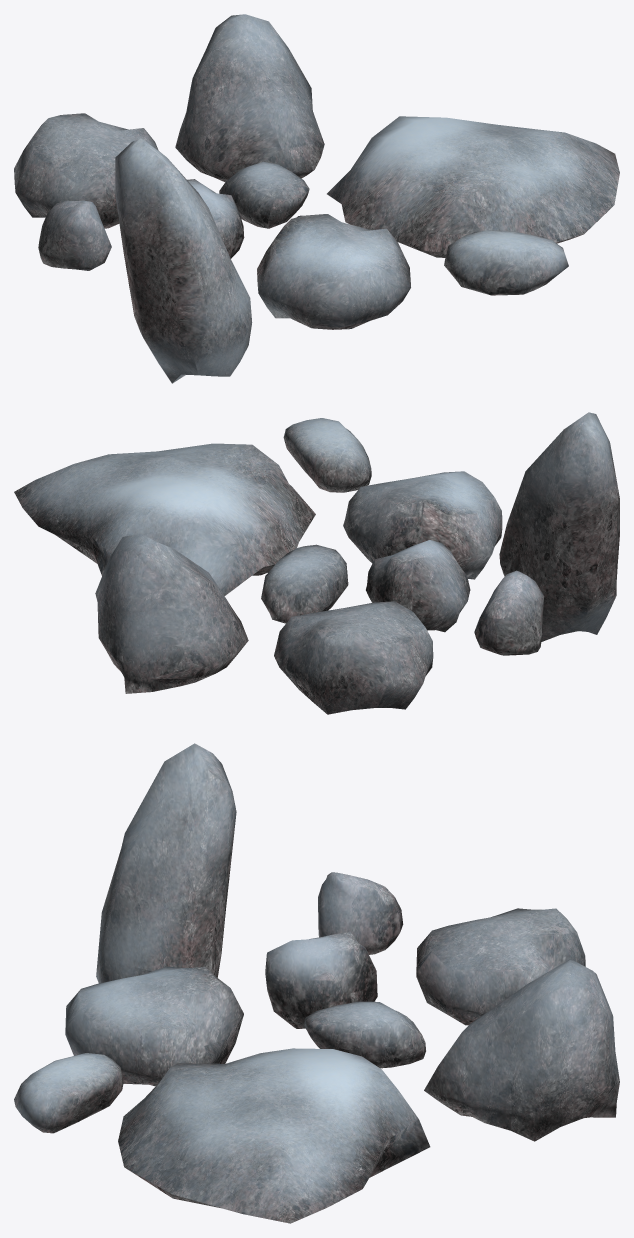
File: rocks.fbx
The picture shows the model from 3 angles, top to bottom: view 1: azimuth 30°, elevation 25°; view 2: azimuth 150°, elevation 25°; view 3: azimuth 270°, elevation 25°; orthographic projection. The views are drawn at different scales.
Parts seen in each view (by area): view 1: polySurface26, polySurface32, polySurface27, polySurface33, polySurface28, polySurface34, polySurface31, polySurface29, polySurface30; view 2: polySurface26, polySurface32, polySurface27, polySurface28, polySurface33, polySurface30, polySurface29, polySurface34, polySurface31; view 3: polySurface26, polySurface32, polySurface27, polySurface33, polySurface28, polySurface30, polySurface34, polySurface29, polySurface31.
Boxes of the visible parts, left/top/right/bottom form: polySurface26: left=327, top=116, right=619, bottom=257; polySurface32: left=115, top=138, right=252, bottom=383; polySurface27: left=175, top=14, right=324, bottom=182; polySurface33: left=257, top=214, right=410, bottom=329; polySurface28: left=14, top=113, right=158, bottom=228; polySurface34: left=444, top=230, right=568, bottom=295; polySurface31: left=38, top=200, right=111, bottom=270; polySurface29: left=219, top=161, right=309, bottom=228; polySurface30: left=187, top=179, right=244, bottom=258; polySurface26: left=14, top=443, right=315, bottom=595; polySurface32: left=499, top=412, right=619, bottom=641; polySurface27: left=95, top=533, right=248, bottom=693; polySurface28: left=274, top=601, right=433, bottom=714; polySurface33: left=343, top=471, right=502, bottom=579; polySurface30: left=366, top=540, right=470, bottom=632; polySurface29: left=261, top=544, right=348, bottom=623; polySurface34: left=283, top=418, right=371, bottom=492; polySurface31: left=474, top=570, right=544, bottom=655; polySurface26: left=118, top=1048, right=430, bottom=1223; polySurface32: left=96, top=743, right=236, bottom=983; polySurface27: left=424, top=959, right=619, bottom=1141; polySurface33: left=65, top=966, right=243, bottom=1086; polySurface28: left=416, top=908, right=585, bottom=1025; polySurface30: left=265, top=931, right=377, bottom=1028; polySurface34: left=14, top=1053, right=123, bottom=1133; polySurface29: left=304, top=1001, right=425, bottom=1068; polySurface31: left=318, top=872, right=403, bottom=954.
Bounding box in the file's own units: 627 × 260 × 536.
